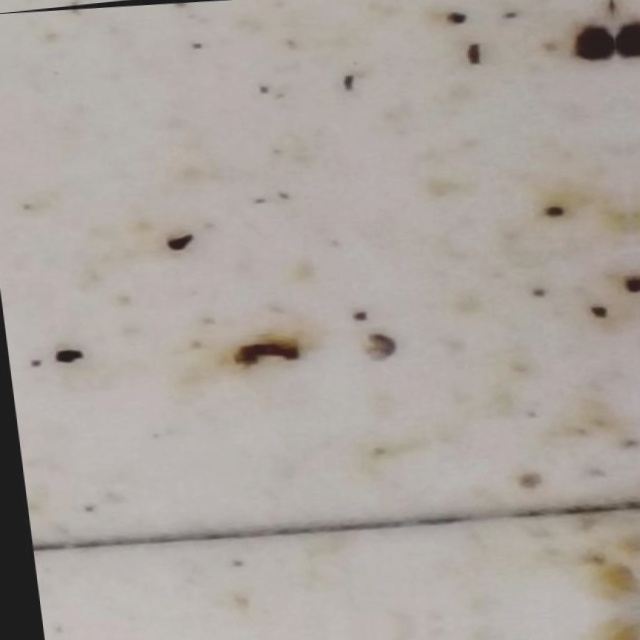varroa: (565, 21, 615, 61)
